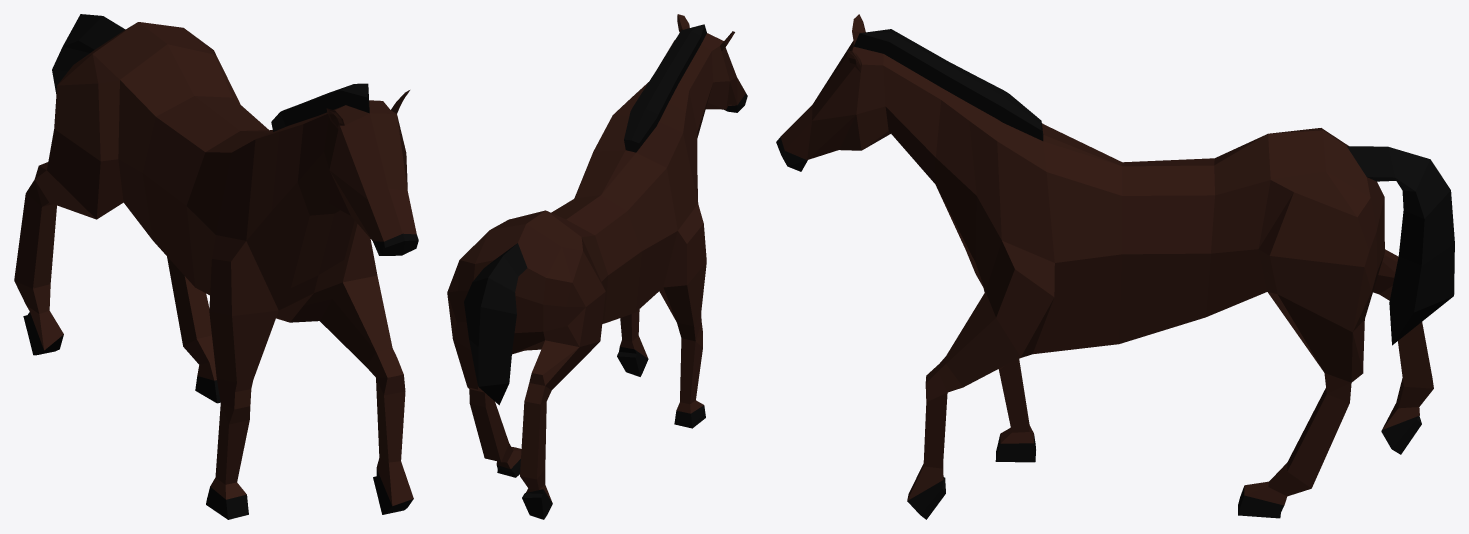
The model's file is Horse_000026.obj.
3 renders of one model, left to right at view 1: azimuth 30°, elevation 25°; view 2: azimuth 150°, elevation 25°; view 3: azimuth 270°, elevation 25°, orthographic. The views are drawn at different scales.
Parts seen in each view (by area): view 1: Horse_Cylinder; view 2: Horse_Cylinder; view 3: Horse_Cylinder.
Boxes of the visible parts, <box> form: Horse_Cylinder: <box>14,14,418,519</box>; Horse_Cylinder: <box>447,14,747,519</box>; Horse_Cylinder: <box>776,14,1454,519</box>.
Size of the model in its own units: 2.55 by 6.76 by 9.09.
